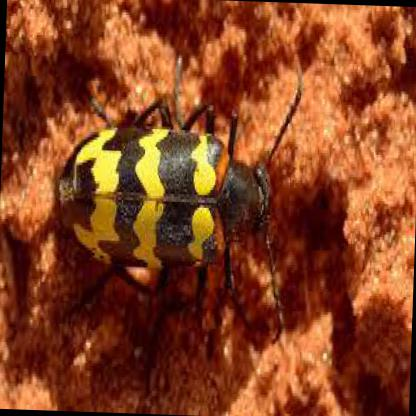blister beetle: (55, 95, 273, 308)
